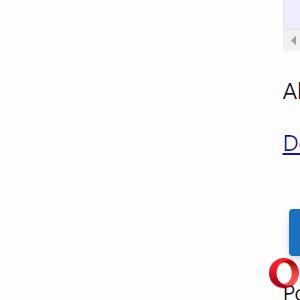opera: (269, 257, 299, 287)
